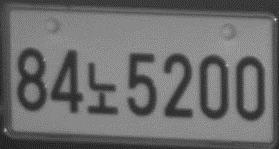0: (198, 53, 229, 120), (235, 53, 265, 122)
2: (162, 52, 193, 119)
4: (49, 48, 84, 114)
5: (127, 51, 157, 118)
8: (16, 46, 48, 113)
노: (86, 62, 118, 115)
